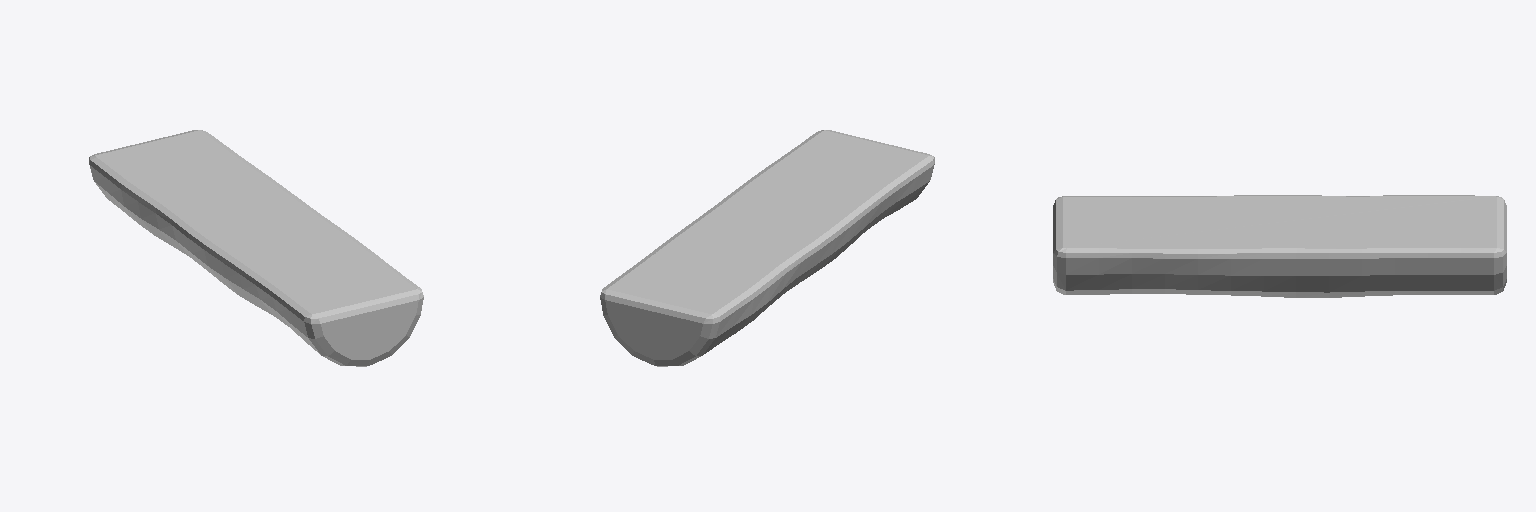
Rendered from timber-2.obj.
3 views of the same model, side by side, from view 1: azimuth 30°, elevation 25°; view 2: azimuth 150°, elevation 25°; view 3: azimuth 270°, elevation 25° (orthographic).
Parts seen in each view (by area): view 1: Cylinder; view 2: Cylinder; view 3: Cylinder.
Boxes of the visible parts, <box> form: Cylinder: <box>89,130,423,366</box>; Cylinder: <box>600,130,934,366</box>; Cylinder: <box>1053,195,1506,297</box>.
Size of the model in its own units: 0.1549 by 0.0822 by 0.5.